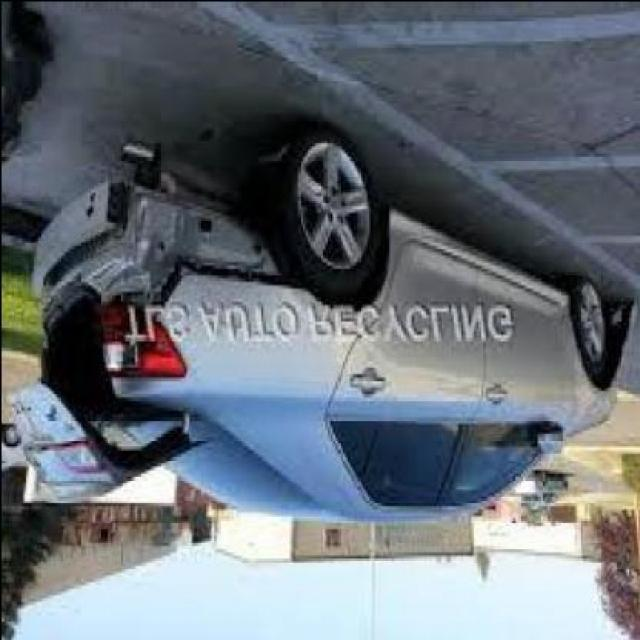damage: (32, 174, 298, 332)
